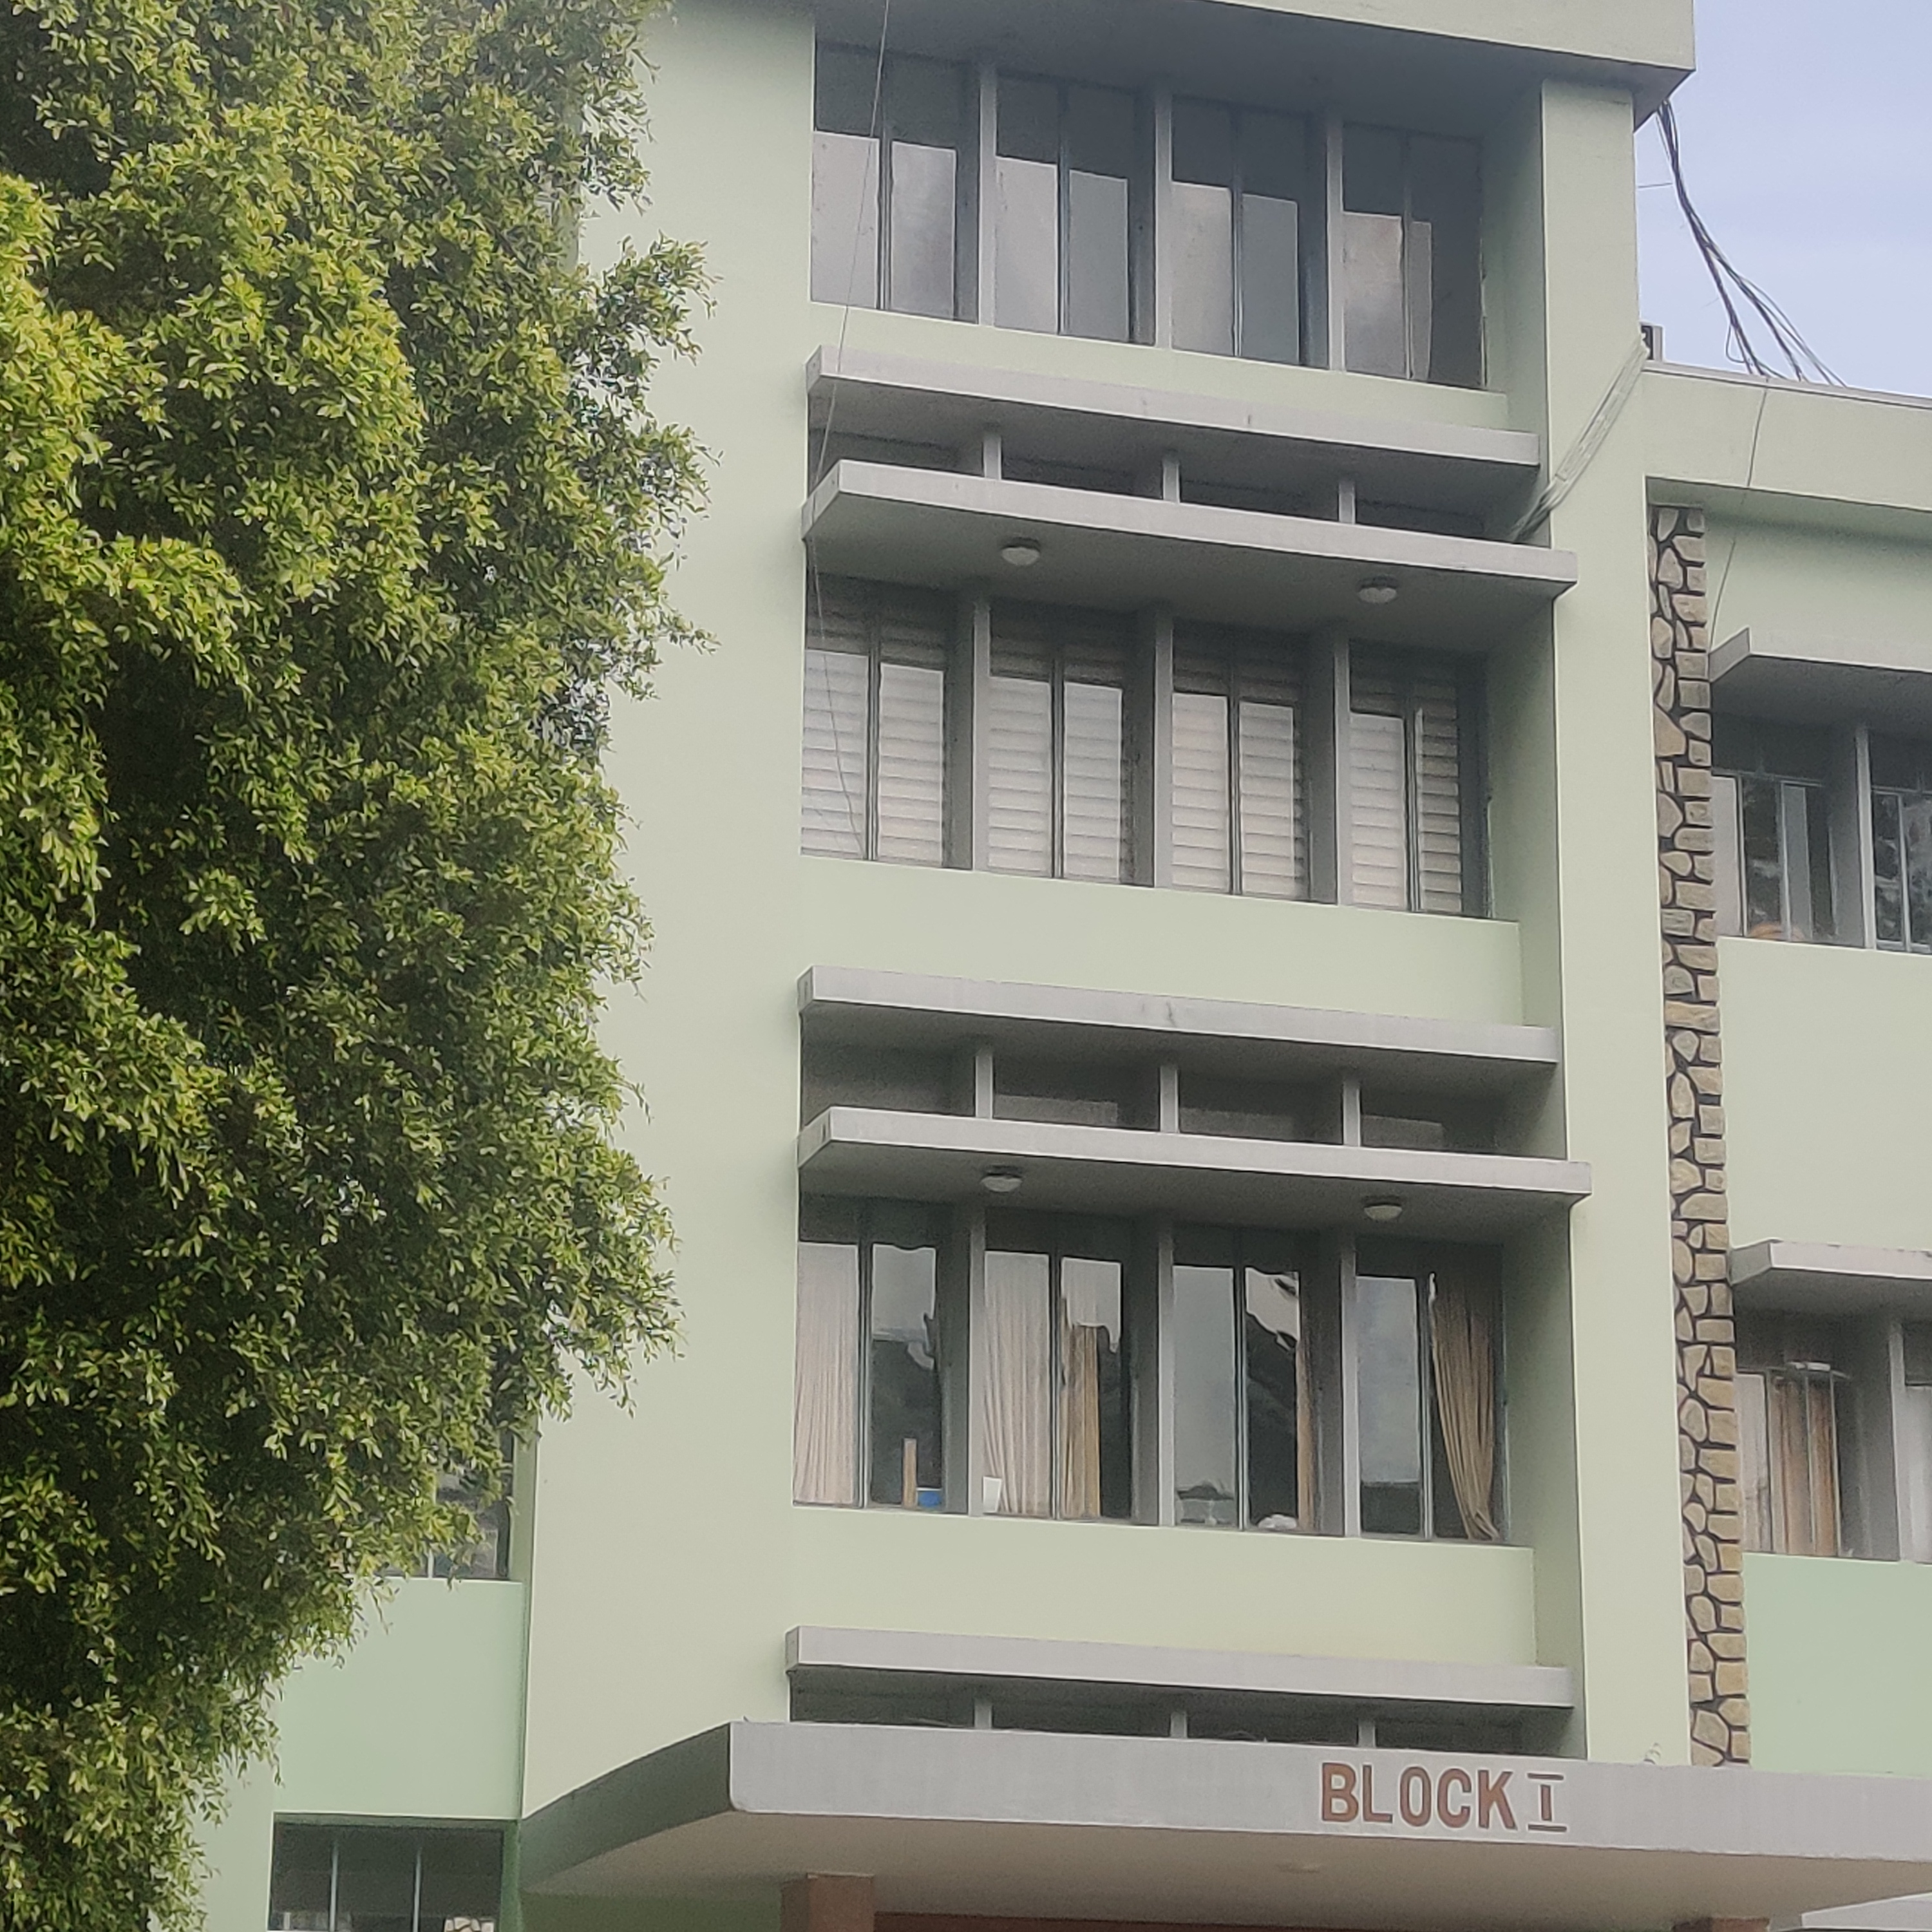Block 1: (695, 7, 1932, 1932)
